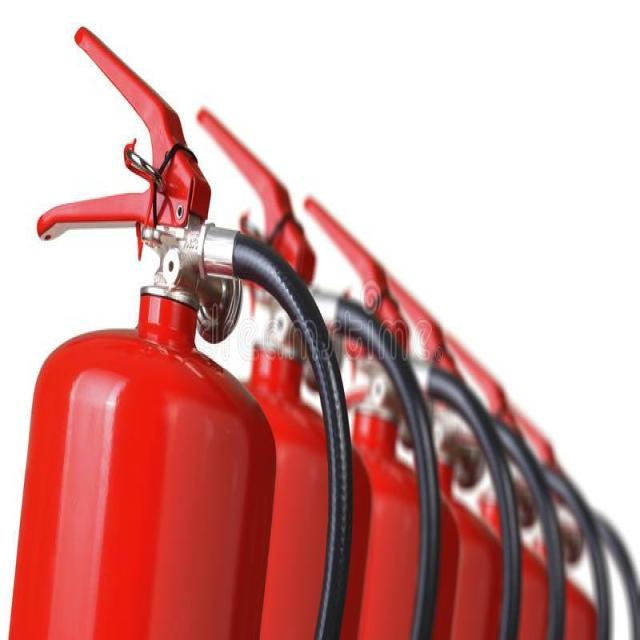fire_extinguisher: (5, 18, 355, 639), (134, 96, 444, 638), (273, 176, 523, 639)
